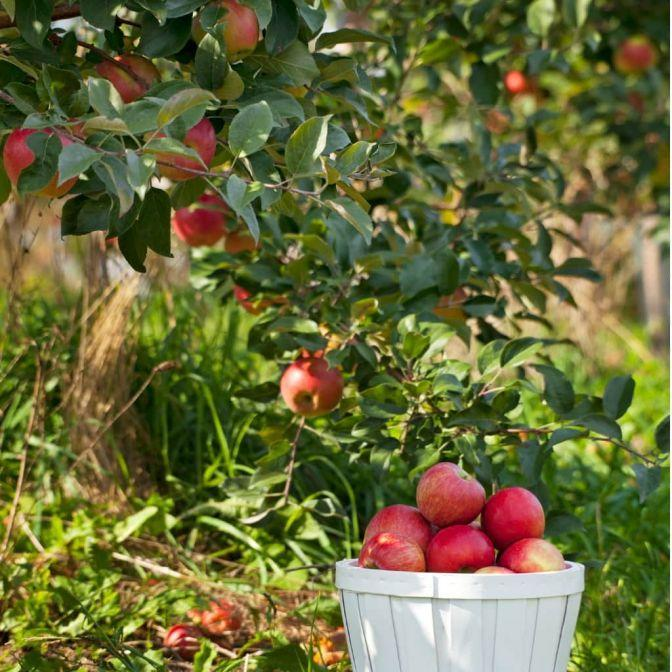apple: (414, 462, 485, 525), (147, 117, 217, 179), (279, 349, 343, 415), (481, 486, 547, 549), (423, 522, 494, 570), (365, 504, 431, 548)
